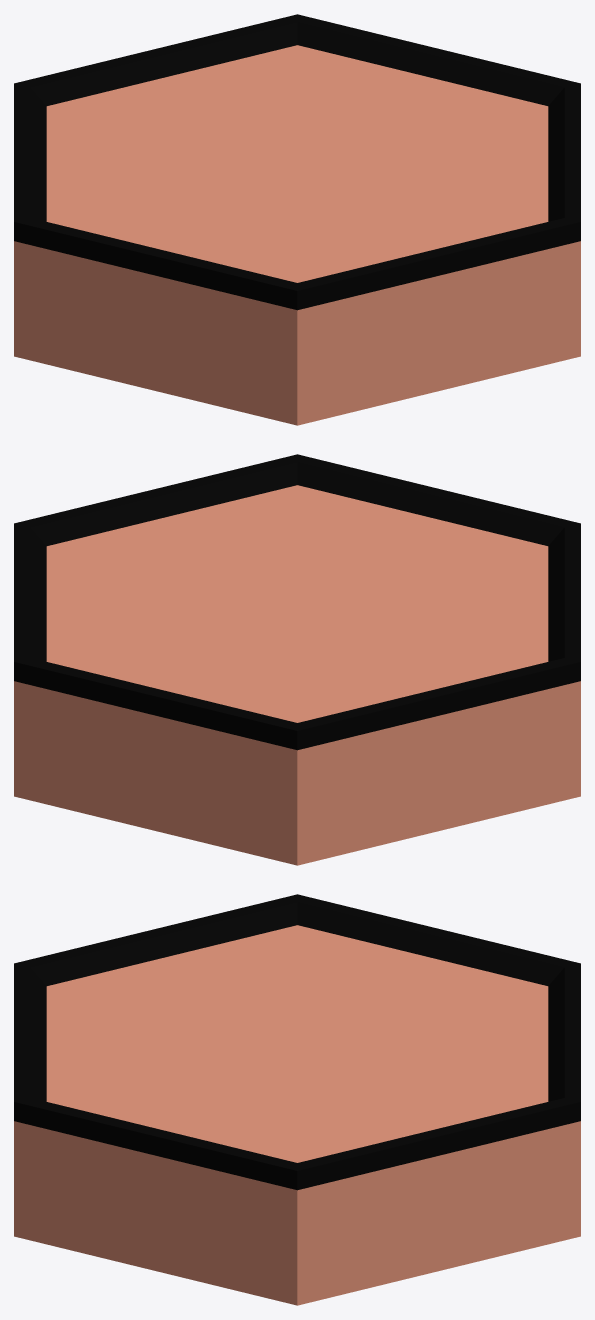
File: room.glb
3 renders of one model, top to bottom at view 1: azimuth 30°, elevation 25°; view 2: azimuth 150°, elevation 25°; view 3: azimuth 270°, elevation 25°, orthographic.
Visible parts, largest first — view 1: Cylinder.003; view 2: Cylinder.003; view 3: Cylinder.003.
Part boxes in pixels (x1,y1,x2,y2): Cylinder.003: (14, 14, 580, 425); Cylinder.003: (14, 454, 580, 865); Cylinder.003: (14, 894, 580, 1305).
Bounding box in the file's own units: 2 × 0.4538 × 1.73.
